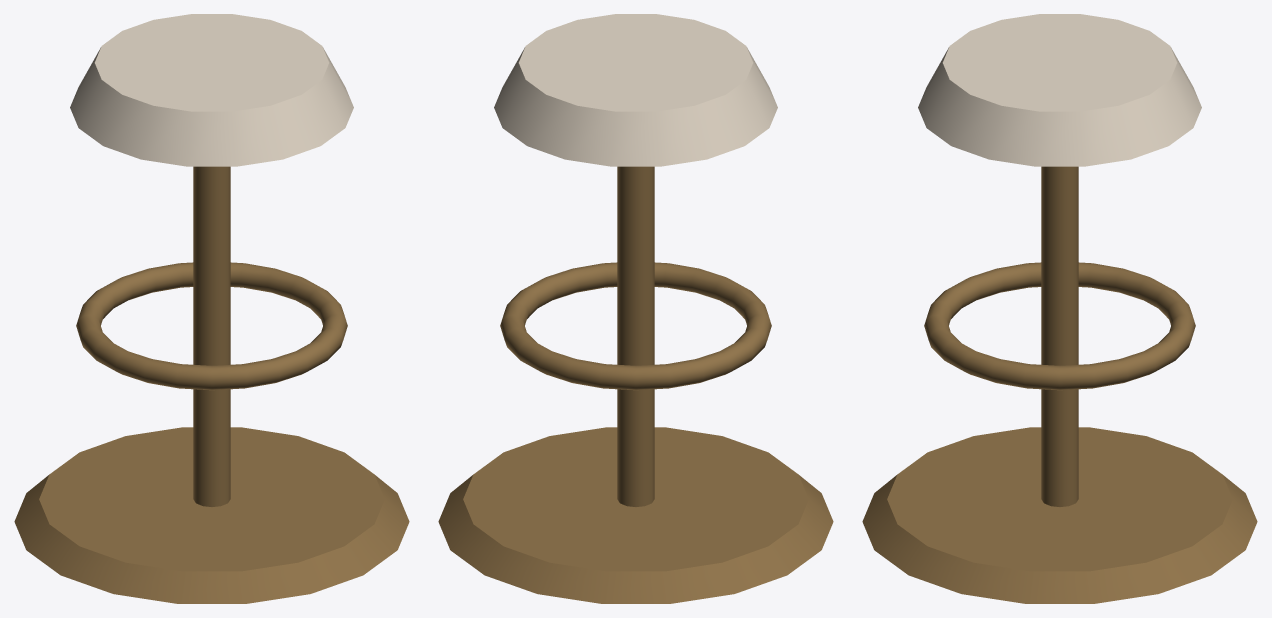
Rendered from bar-stool.glb.
3 renders of one model, left to right at view 1: azimuth 30°, elevation 25°; view 2: azimuth 150°, elevation 25°; view 3: azimuth 270°, elevation 25°, orthographic.
Bounding box in the file's own units: 0.6303 × 0.82 × 0.64.
